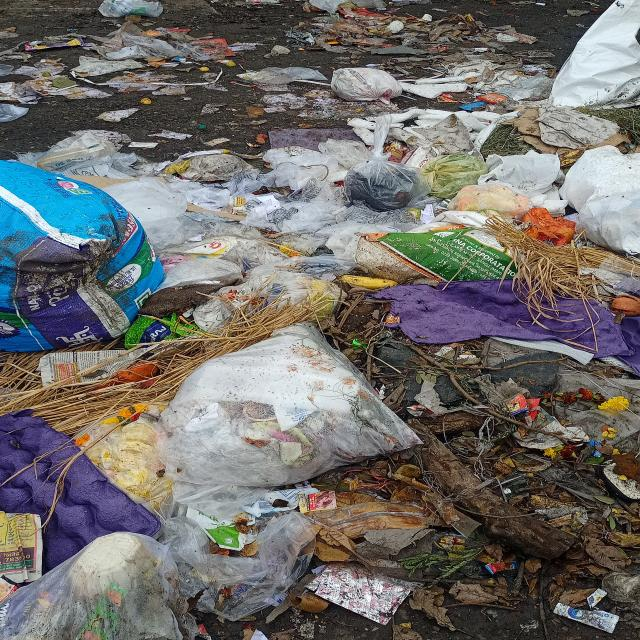garbage: (2, 3, 637, 640)
